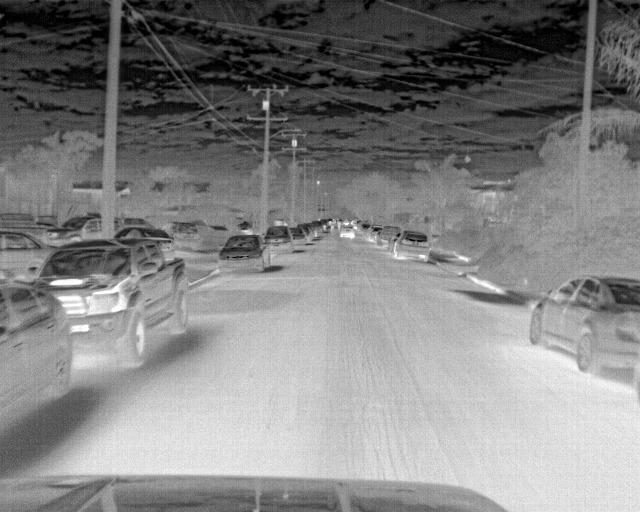car: (37, 236, 186, 369), (524, 276, 639, 378), (0, 283, 70, 393), (2, 232, 56, 283), (217, 234, 271, 276), (114, 225, 176, 255), (46, 214, 102, 246), (392, 233, 436, 264), (266, 225, 295, 254), (1, 211, 35, 229), (376, 225, 398, 248), (337, 223, 359, 241), (293, 228, 308, 247)
